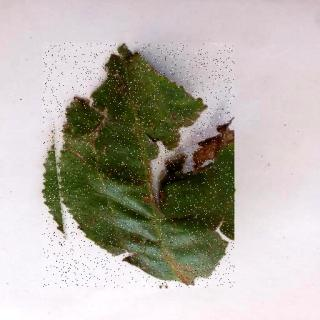Algal Leaf: (44, 44, 236, 289)
